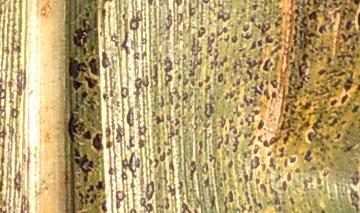tarspot: (188, 34, 203, 76), (67, 113, 84, 143), (304, 117, 322, 143), (67, 55, 87, 78), (268, 181, 282, 213), (127, 151, 142, 180), (79, 154, 94, 182), (161, 56, 174, 87), (296, 51, 310, 76), (14, 69, 26, 98), (128, 10, 145, 30), (348, 186, 360, 213), (119, 31, 132, 55), (200, 118, 213, 141), (73, 27, 88, 46), (342, 70, 354, 93), (310, 85, 331, 98), (294, 75, 310, 92), (12, 170, 22, 196), (88, 57, 101, 77), (204, 32, 215, 55), (92, 132, 104, 152), (114, 190, 126, 210), (126, 106, 136, 129), (99, 50, 111, 69), (150, 63, 159, 88), (202, 103, 217, 118), (250, 197, 264, 213), (83, 75, 100, 88), (167, 123, 180, 140), (163, 87, 174, 107), (125, 133, 137, 151), (226, 117, 238, 135), (114, 122, 124, 143), (187, 159, 197, 180), (145, 180, 155, 200), (164, 9, 173, 31), (296, 119, 310, 133), (231, 133, 240, 154), (210, 48, 218, 71), (325, 115, 339, 128), (132, 77, 142, 95), (262, 58, 274, 73), (302, 176, 313, 192), (207, 152, 217, 169), (267, 156, 277, 173), (350, 169, 360, 186), (259, 21, 272, 34), (269, 44, 282, 57), (315, 132, 330, 143), (258, 182, 268, 198), (70, 79, 83, 91), (216, 10, 230, 21), (109, 32, 119, 47), (170, 87, 180, 102), (219, 54, 229, 69), (250, 156, 260, 171), (214, 134, 223, 150), (221, 195, 229, 213), (241, 95, 253, 107), (337, 15, 345, 33), (119, 85, 130, 98), (136, 125, 147, 138), (232, 105, 243, 118), (165, 184, 175, 198), (208, 195, 217, 210), (136, 137, 147, 149), (245, 57, 257, 68), (285, 92, 297, 103), (344, 19, 355, 31), (178, 203, 191, 213), (154, 113, 164, 126), (200, 162, 210, 175), (231, 59, 244, 69), (252, 84, 262, 97), (246, 134, 256, 147), (268, 134, 281, 144), (191, 115, 199, 131), (6, 124, 15, 138), (99, 199, 108, 213), (240, 30, 254, 39), (303, 149, 312, 163), (332, 77, 341, 91), (195, 26, 206, 37), (292, 8, 300, 23), (343, 142, 355, 152), (244, 68, 253, 81), (262, 88, 271, 101), (300, 15, 309, 28), (141, 74, 149, 88), (218, 115, 226, 129), (291, 25, 299, 39), (306, 31, 320, 39), (343, 6, 357, 14), (82, 130, 93, 140), (95, 180, 105, 191), (263, 34, 274, 44), (10, 107, 19, 119), (179, 90, 188, 102), (216, 26, 228, 35), (222, 90, 234, 99), (161, 169, 168, 184), (244, 112, 251, 127), (243, 190, 250, 205), (85, 96, 98, 104), (167, 159, 175, 172), (175, 12, 183, 25), (203, 175, 211, 188), (328, 21, 336, 34), (317, 45, 330, 53), (103, 140, 113, 150), (308, 10, 318, 20), (338, 33, 348, 43), (329, 97, 339, 107), (72, 146, 81, 157), (119, 171, 128, 182), (144, 202, 153, 213), (248, 39, 257, 50), (269, 78, 278, 89), (321, 167, 330, 178), (320, 12, 329, 23), (340, 93, 349, 104), (300, 101, 311, 110), (120, 156, 127, 170), (157, 95, 164, 109), (227, 189, 234, 203), (283, 130, 290, 144), (277, 146, 285, 158), (80, 89, 87, 102), (77, 192, 84, 205), (138, 197, 145, 210), (196, 140, 205, 150), (241, 22, 250, 32), (331, 8, 340, 18), (107, 165, 115, 176), (158, 151, 166, 162), (226, 159, 234, 170), (255, 56, 263, 67), (347, 58, 355, 69), (103, 126, 110, 138), (223, 132, 229, 146), (257, 119, 264, 131), (281, 180, 288, 192), (229, 34, 238, 43), (326, 74, 335, 83), (101, 91, 109, 101), (72, 92, 80, 102), (84, 185, 94, 193), (154, 145, 162, 155), (176, 181, 184, 191), (188, 79, 196, 89), (253, 22, 261, 32), (256, 134, 264, 144), (261, 139, 269, 149), (252, 144, 260, 154), (287, 195, 295, 205), (317, 68, 327, 76), (356, 11, 360, 31), (335, 53, 345, 61), (351, 104, 359, 114), (306, 110, 316, 118), (164, 196, 170, 209), (333, 71, 346, 77), (152, 157, 159, 168), (216, 72, 223, 83), (220, 171, 227, 182), (282, 157, 289, 168), (80, 18, 88, 27), (140, 51, 148, 60), (87, 160, 95, 169), (188, 7, 197, 15), (203, 84, 211, 93), (272, 20, 281, 28), (252, 72, 260, 81), (289, 155, 297, 164), (231, 205, 240, 213), (239, 204, 247, 213), (308, 165, 317, 173), (318, 24, 326, 33), (345, 32, 357, 38), (193, 104, 202, 112), (14, 45, 21, 55), (1, 127, 6, 141), (166, 146, 173, 156), (154, 203, 164, 210), (171, 118, 181, 125), (207, 92, 214, 102), (274, 30, 284, 37), (258, 80, 265, 90), (127, 207, 138, 213), (248, 171, 254, 182), (286, 171, 292, 182), (222, 34, 230, 42), (238, 46, 246, 54), (253, 176, 261, 184), (293, 166, 301, 174), (349, 44, 357, 52), (294, 134, 302, 142), (319, 146, 327, 154), (6, 79, 13, 88), (100, 7, 107, 16), (88, 43, 95, 52), (132, 52, 139, 61), (128, 181, 135, 190), (251, 1, 258, 10), (265, 198, 272, 207), (287, 61, 296, 68), (1, 108, 6, 120), (173, 1, 183, 7), (197, 79, 203, 89), (279, 119, 284, 131), (287, 72, 293, 82), (327, 68, 339, 73), (298, 38, 303, 50), (297, 27, 302, 39), (3, 47, 10, 55), (83, 11, 90, 19), (140, 37, 147, 45), (107, 89, 114, 97), (88, 103, 95, 111), (73, 157, 80, 165), (173, 102, 180, 110), (173, 58, 180, 66), (181, 78, 188, 86), (151, 48, 158, 56), (248, 15, 255, 23), (256, 39, 263, 47), (270, 90, 277, 98), (288, 206, 296, 213), (315, 177, 323, 184), (315, 184, 323, 191), (334, 132, 341, 140), (339, 119, 347, 126), (341, 134, 349, 141), (330, 143, 337, 151), (1, 88, 6, 99), (155, 181, 161, 190), (176, 72, 182, 81), (215, 182, 224, 188), (242, 173, 248, 182), (235, 77, 241, 86), (250, 114, 256, 123), (285, 119, 291, 128), (283, 102, 289, 111), (286, 85, 292, 94), (288, 45, 294, 54), (147, 157, 152, 167), (261, 163, 266, 173), (326, 55, 331, 65), (344, 53, 354, 58), (162, 123, 169, 130), (175, 112, 182, 119), (180, 54, 187, 61), (204, 75, 211, 82), (235, 177, 242, 184), (223, 149, 230, 156), (288, 108, 295, 115), (314, 79, 321, 86), (306, 1, 313, 8), (301, 1, 308, 8), (294, 1, 301, 8), (322, 2, 329, 9), (306, 38, 313, 45), (115, 101, 122, 108), (295, 110, 302, 117), (293, 182, 300, 189), (180, 103, 187, 110), (121, 12, 127, 20), (79, 107, 85, 115), (88, 198, 94, 206), (150, 109, 156, 117), (215, 94, 221, 102), (264, 78, 270, 86), (252, 109, 260, 115), (238, 117, 244, 125), (241, 150, 247, 158), (246, 148, 252, 156), (274, 173, 280, 181), (281, 111, 287, 119), (282, 43, 288, 51), (301, 40, 307, 48), (341, 9, 347, 17), (186, 103, 194, 109), (81, 46, 86, 55), (319, 208, 328, 213), (1, 178, 4, 192), (91, 90, 98, 96), (73, 103, 80, 109), (89, 119, 95, 126), (165, 114, 171, 121), (275, 14, 282, 20), (234, 94, 241, 100), (240, 163, 246, 170), (251, 101, 257, 108), (241, 132, 247, 139), (265, 150, 272, 156), (280, 199, 286, 206), (282, 50, 289, 56), (353, 1, 360, 7), (317, 55, 324, 61), (237, 14, 244, 20), (262, 7, 269, 13), (331, 109, 338, 115), (327, 191, 334, 197), (235, 195, 242, 201), (257, 100, 263, 107), (21, 153, 25, 163), (146, 1, 154, 6), (74, 184, 82, 189), (91, 192, 96, 200), (188, 90, 193, 98), (313, 24, 318, 32), (336, 61, 341, 69), (349, 121, 354, 129), (339, 144, 344, 152), (320, 152, 324, 162), (1, 141, 5, 150), (101, 1, 113, 4), (83, 56, 89, 62), (83, 193, 89, 199), (192, 207, 198, 213), (240, 7, 246, 13), (217, 2, 223, 8), (257, 46, 263, 52), (230, 82, 236, 88), (235, 89, 241, 95), (239, 102, 245, 108), (247, 204, 251, 213), (290, 103, 296, 109), (302, 87, 308, 93), (302, 32, 306, 41), (353, 36, 359, 42), (307, 49, 313, 55), (312, 45, 318, 51), (342, 60, 348, 66), (356, 72, 360, 81), (318, 87, 324, 93), (332, 92, 338, 98), (323, 99, 329, 105), (326, 115, 332, 121), (317, 106, 326, 110), (323, 109, 329, 115), (313, 150, 319, 156), (328, 161, 334, 167), (301, 168, 307, 174), (222, 78, 227, 85), (218, 35, 223, 42), (239, 52, 246, 57), (311, 1, 318, 6), (343, 44, 348, 51), (319, 39, 324, 46), (355, 53, 360, 60), (262, 1, 269, 6), (318, 110, 323, 117), (288, 127, 295, 132), (325, 152, 330, 159), (199, 1, 210, 4), (1, 156, 5, 164), (356, 83, 360, 91), (2, 208, 8, 213), (72, 108, 78, 113), (232, 69, 237, 75), (273, 39, 278, 45), (246, 131, 252, 136), (292, 39, 297, 45), (288, 54, 293, 60), (337, 1, 343, 6), (313, 58, 318, 64), (296, 101, 302, 106), (310, 101, 316, 106), (299, 116, 305, 121), (292, 116, 298, 121), (291, 131, 297, 136), (340, 191, 346, 196), (197, 149, 201, 156), (173, 69, 178, 74), (216, 65, 221, 70), (240, 186, 245, 191), (315, 8, 320, 13), (343, 1, 348, 6), (349, 12, 354, 17), (338, 109, 343, 114), (312, 106, 317, 111), (329, 197, 334, 202), (302, 203, 307, 208), (83, 198, 87, 204), (307, 209, 313, 213), (293, 73, 297, 79), (302, 92, 306, 98), (242, 1, 248, 5), (268, 1, 274, 5), (345, 130, 351, 134), (1, 8, 3, 18), (26, 92, 31, 96), (97, 193, 101, 198), (231, 48, 235, 53), (291, 141, 296, 145), (308, 23, 312, 28), (320, 8, 325, 12), (327, 16, 331, 21), (235, 10, 239, 15), (242, 13, 247, 17), (344, 105, 348, 110), (329, 138, 333, 143), (1, 77, 4, 83), (298, 94, 301, 100), (357, 125, 360, 131), (275, 1, 283, 3), (249, 193, 253, 197), (321, 1, 329, 3), (357, 118, 360, 123), (1, 206, 3, 213), (349, 1, 356, 3), (1, 83, 3, 89), (85, 117, 89, 120), (332, 1, 337, 3)
